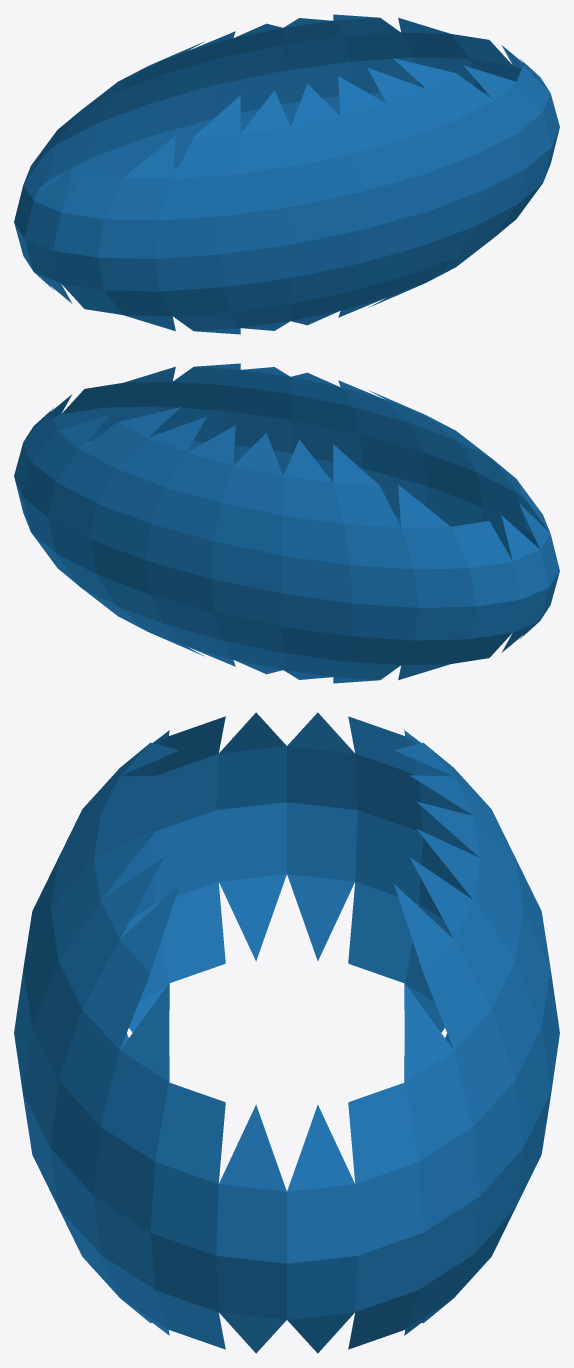
File: provider_cleanup_probe_lod1.glb
3 renders of one model, top to bottom at view 1: azimuth 30°, elevation 25°; view 2: azimuth 150°, elevation 25°; view 3: azimuth 270°, elevation 25°, orthographic. The views are drawn at different scales.
Visible parts, largest first — view 1: PBR_TestHull; view 2: PBR_TestHull; view 3: PBR_TestHull.
Boxes of the visible parts, box(x1,y1,x2,y2) form: PBR_TestHull: box(14, 14, 559, 334); PBR_TestHull: box(14, 363, 559, 683); PBR_TestHull: box(14, 712, 559, 1353).
Size of the model in its own units: 3 by 1.32 by 1.5.
Materials: 1 (1 with a texture image).
